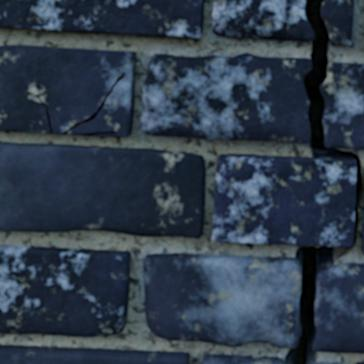brick: (0, 142, 204, 237), (212, 154, 355, 245), (0, 46, 135, 136), (0, 246, 129, 336), (0, 0, 203, 37), (0, 345, 188, 363), (362, 225, 363, 253)
broken_brick: (139, 52, 310, 144), (143, 252, 299, 348), (314, 262, 363, 354), (212, 0, 312, 41), (322, 61, 363, 149), (323, 0, 354, 45), (201, 353, 283, 363), (316, 360, 339, 363)
crack: (283, 0, 363, 363), (61, 71, 125, 134), (35, 93, 53, 133), (76, 130, 118, 136)
